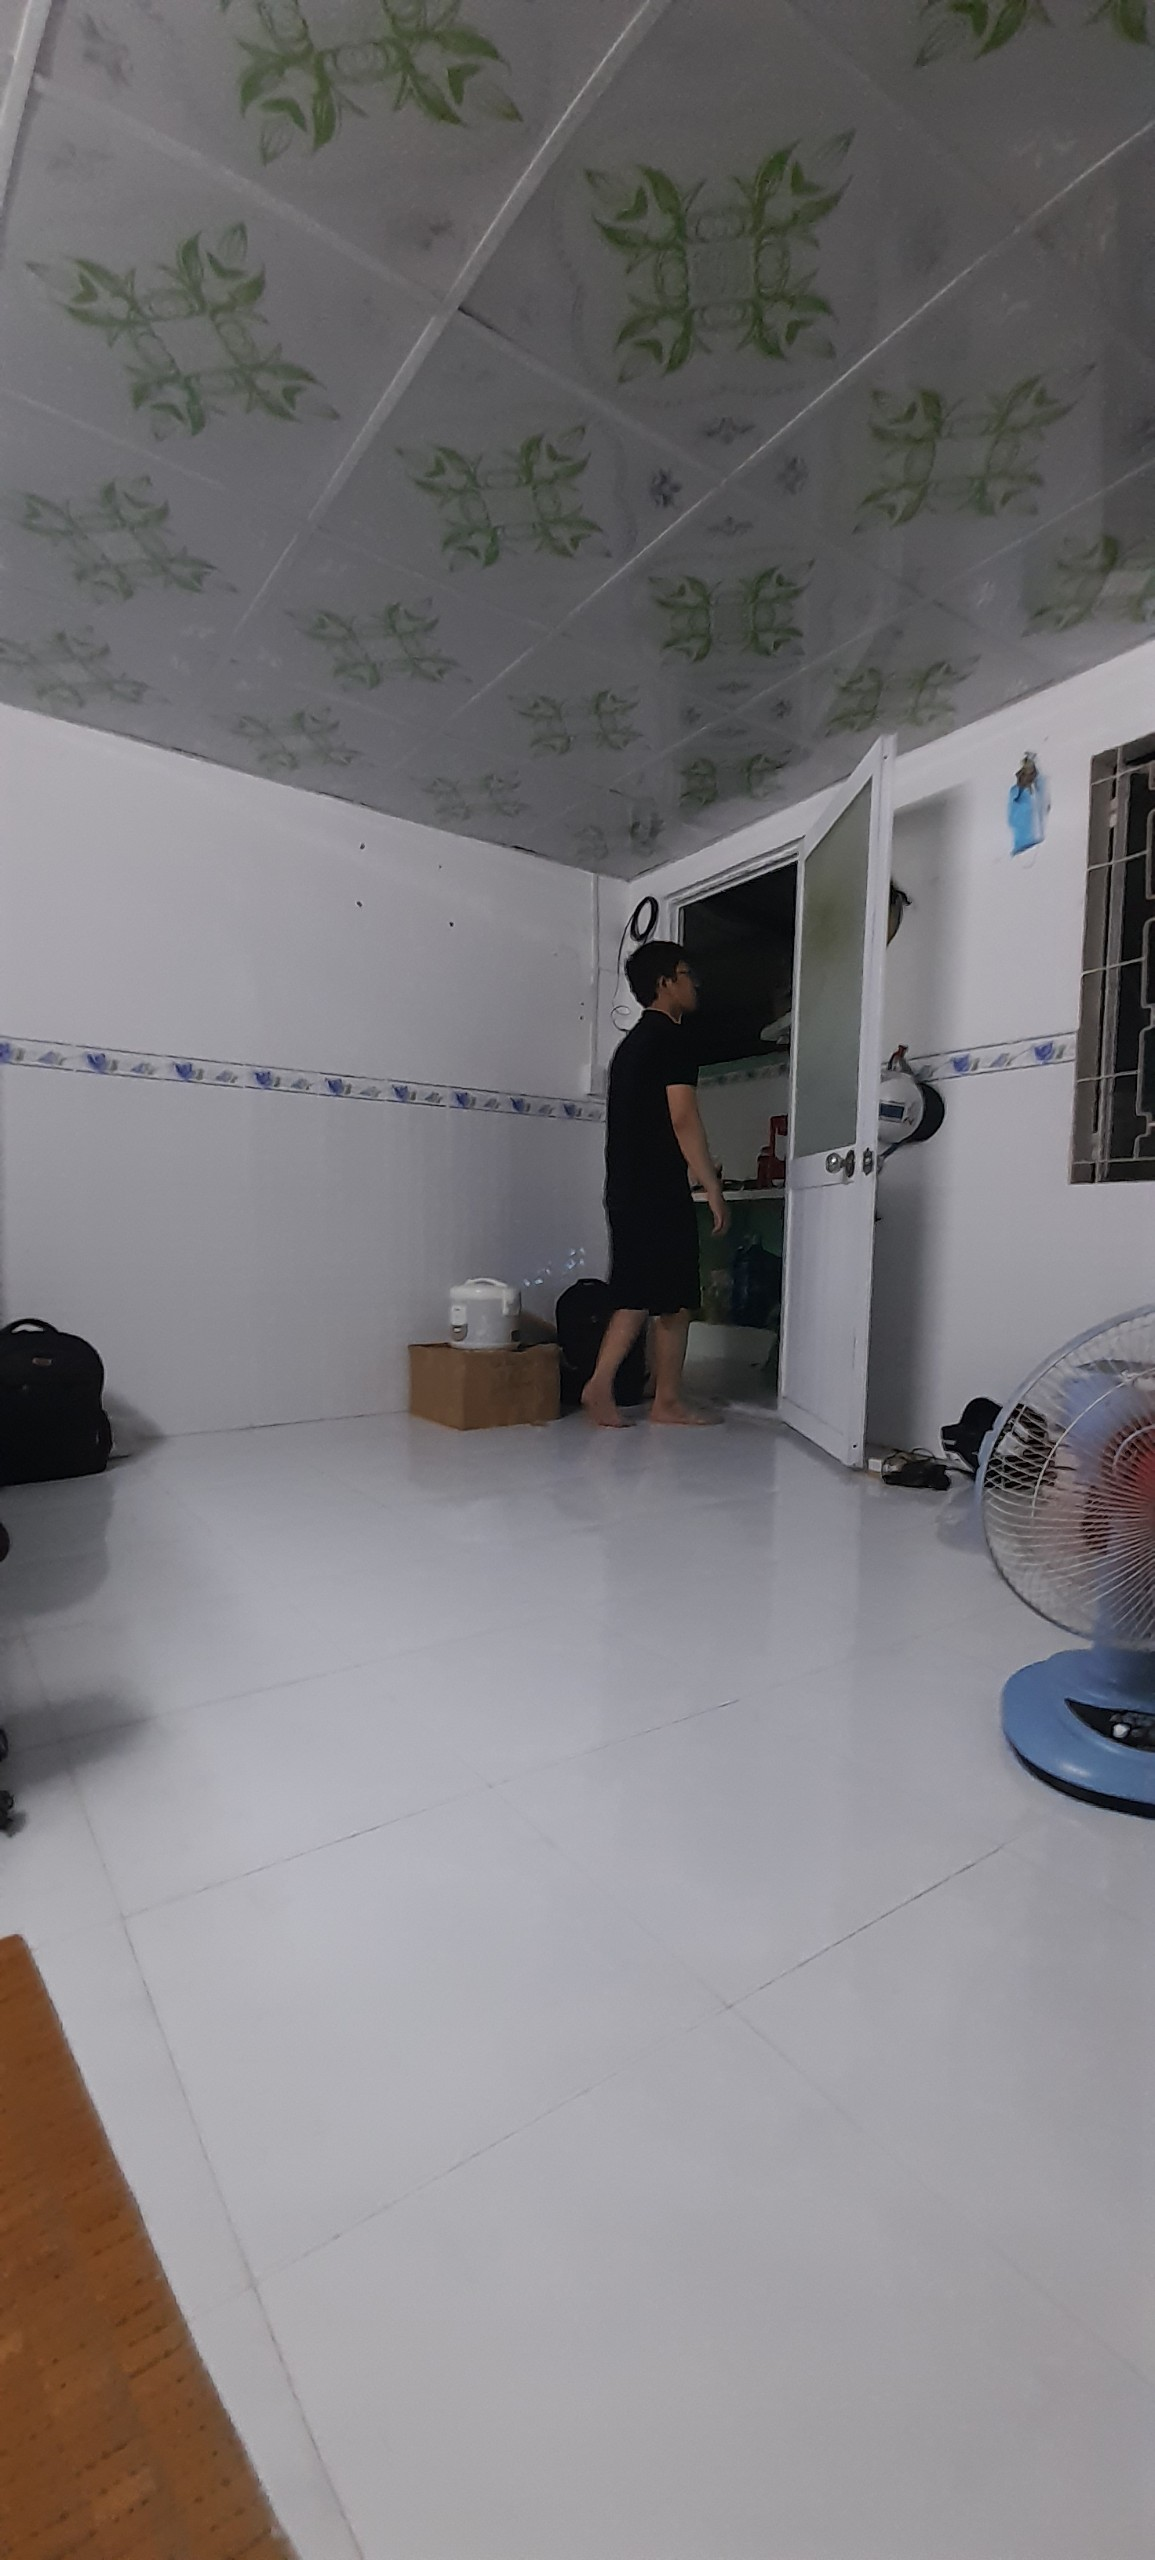person: (581, 941, 725, 1433)
